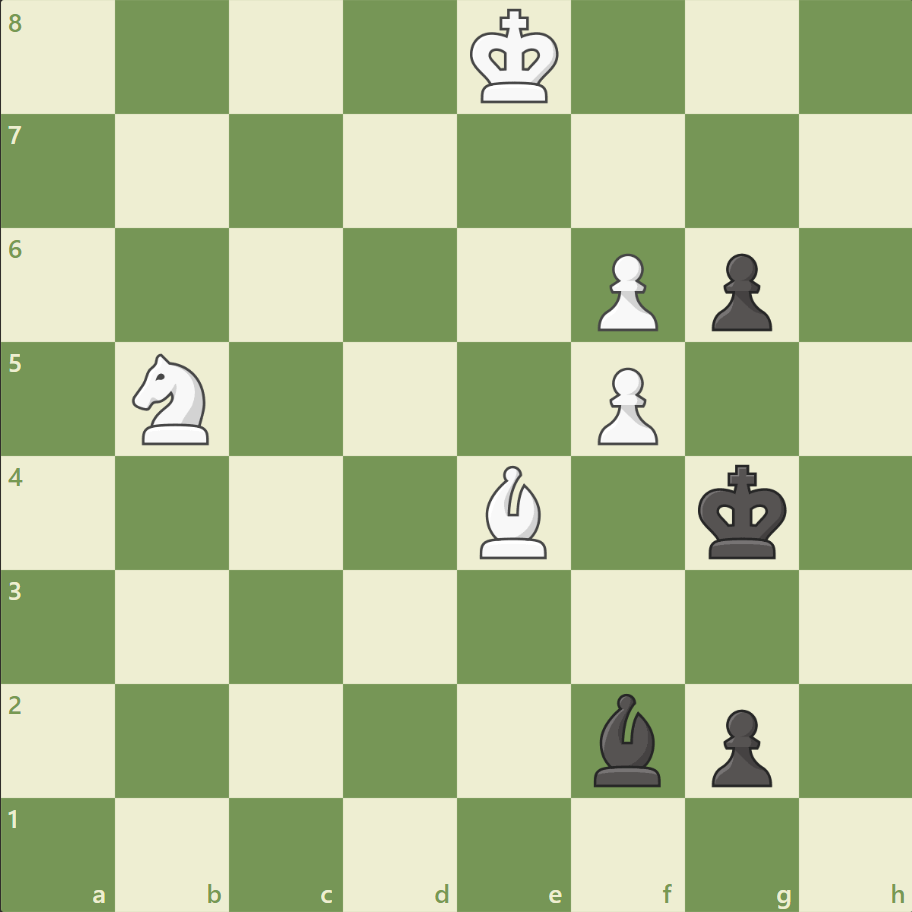B: (471, 460, 555, 563)
K: (465, 4, 565, 112)
N: (124, 348, 222, 450)
P: (588, 246, 662, 337), (588, 359, 662, 450)
b: (585, 687, 669, 790)
k: (692, 458, 792, 566)
p: (701, 246, 776, 337), (701, 700, 776, 791)
